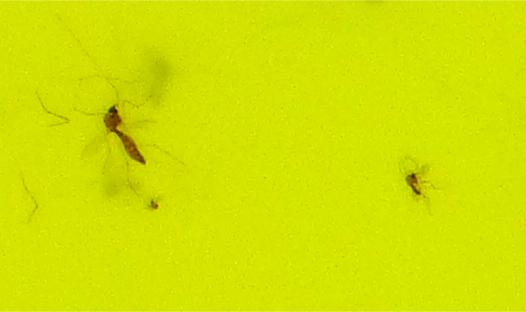Nematocera: (100, 100, 148, 167), (402, 165, 426, 199)
